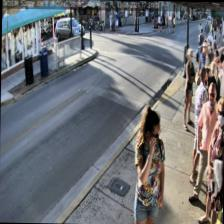person: (132, 103, 165, 224), (188, 82, 218, 204), (197, 96, 223, 224), (182, 48, 194, 130)
